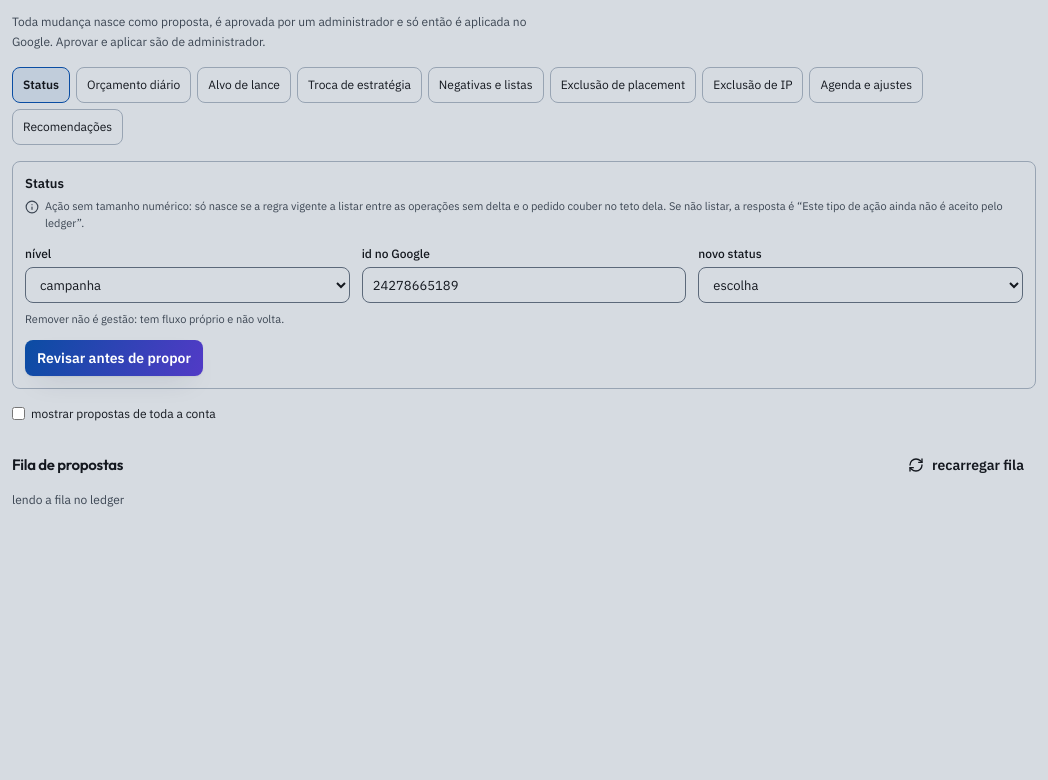
Test case: propor: formulário → antes/depois → proposta › validação local recusa antes da rede
Click the button "Exclusão de IP" at (753, 85), box [702, 67, 803, 103]
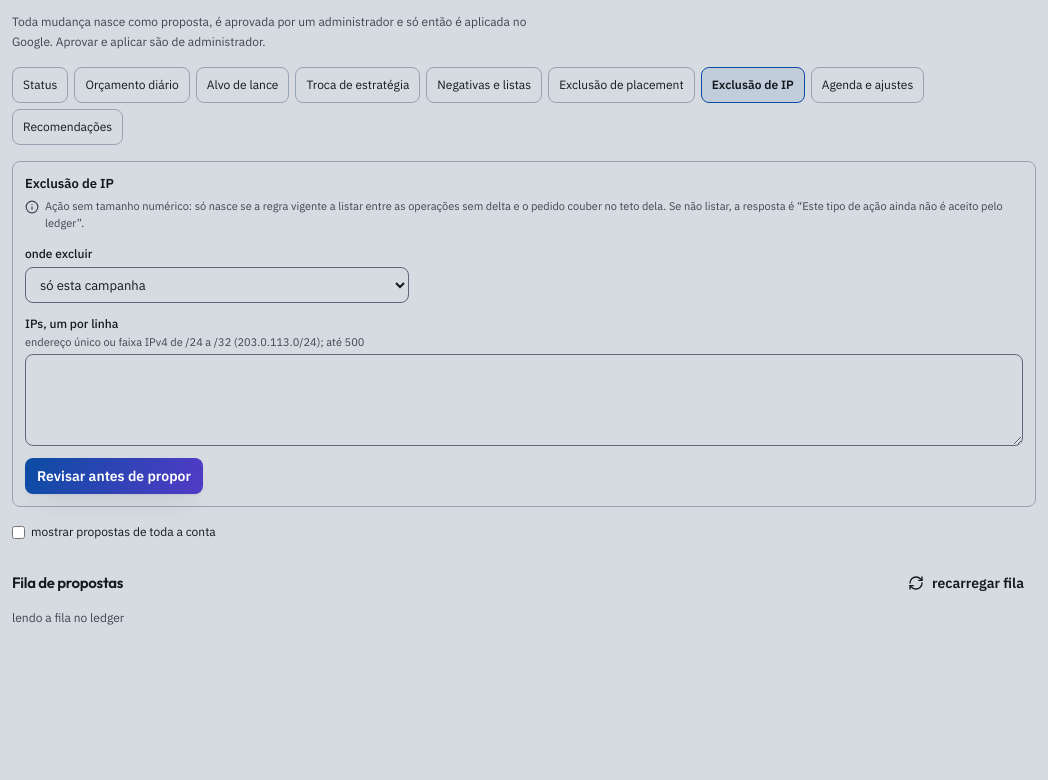
Type "10.0.0.0/16" into the text box labelled "IPs, um por linha" at (524, 400), box [25, 354, 1023, 446]
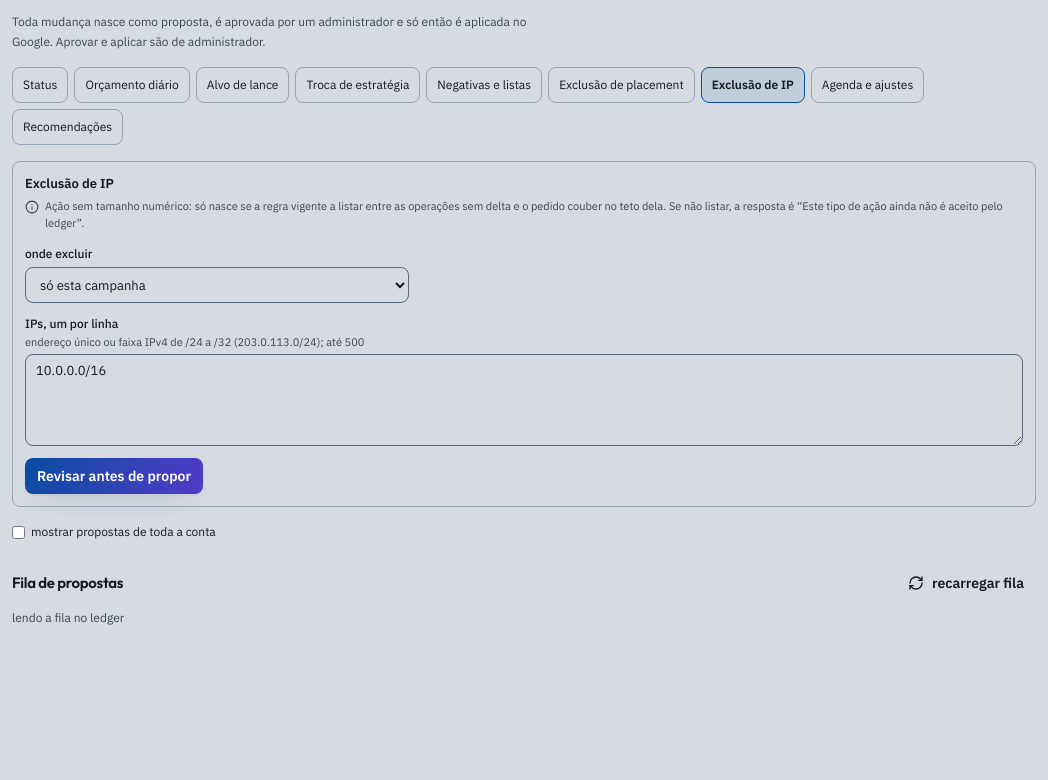
Click the button "Revisar antes de propor" at (114, 476), box [25, 458, 203, 494]
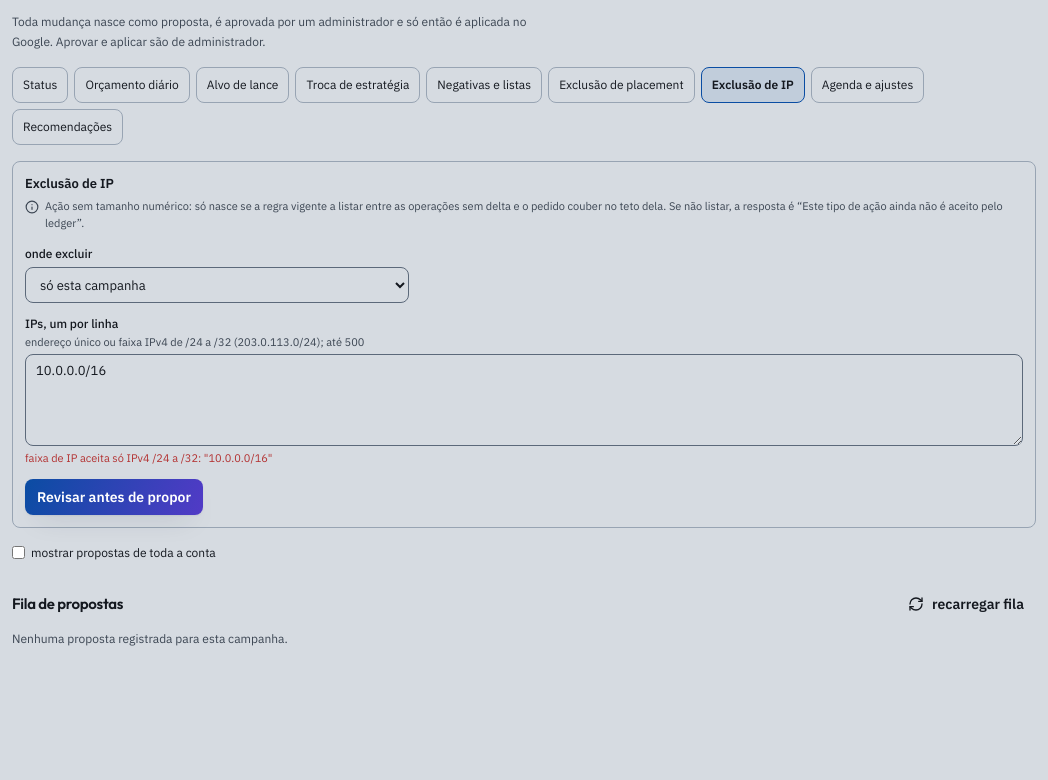
Expected: the text "faixa de IP aceita só IPv4 /24 a /32: \"10.0.0.0/16\"" is shown, [25, 451, 272, 465]
